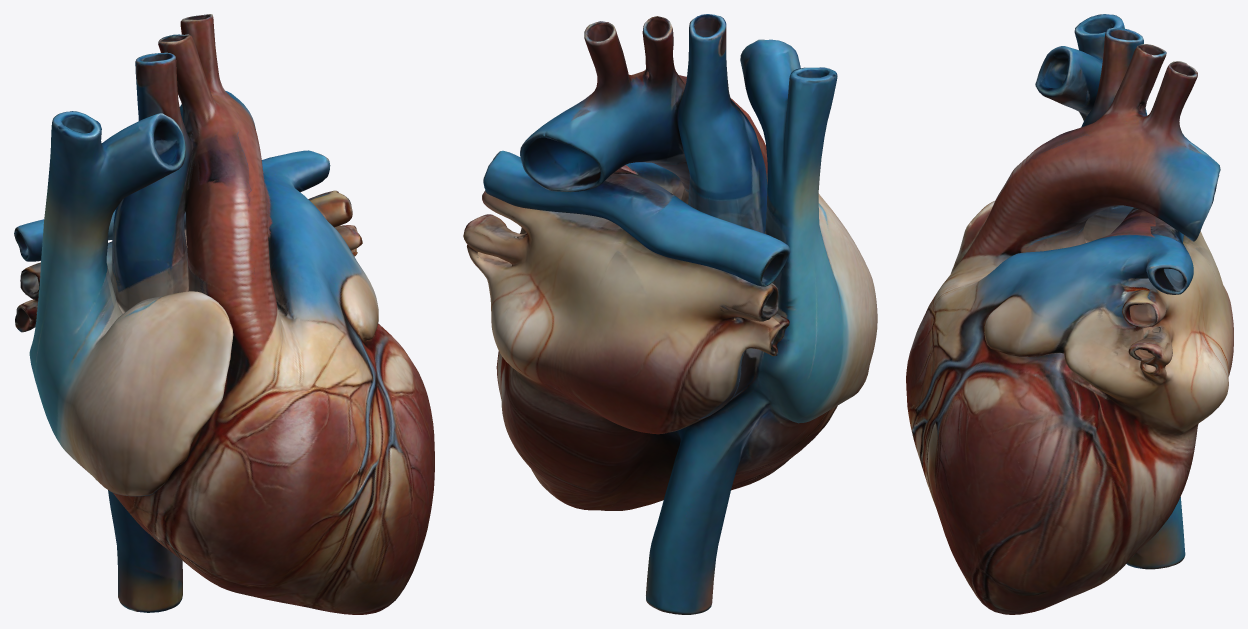
File: heart.glb
3 renders of one model, left to right at view 1: azimuth 30°, elevation 25°; view 2: azimuth 150°, elevation 25°; view 3: azimuth 270°, elevation 25°, orthographic. The views are drawn at different scales.
Bounding box in the file's own units: 1.26 × 2 × 1.13.
1 material, 1 textured.
